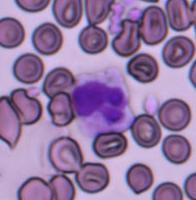N: (70, 67, 132, 138)
